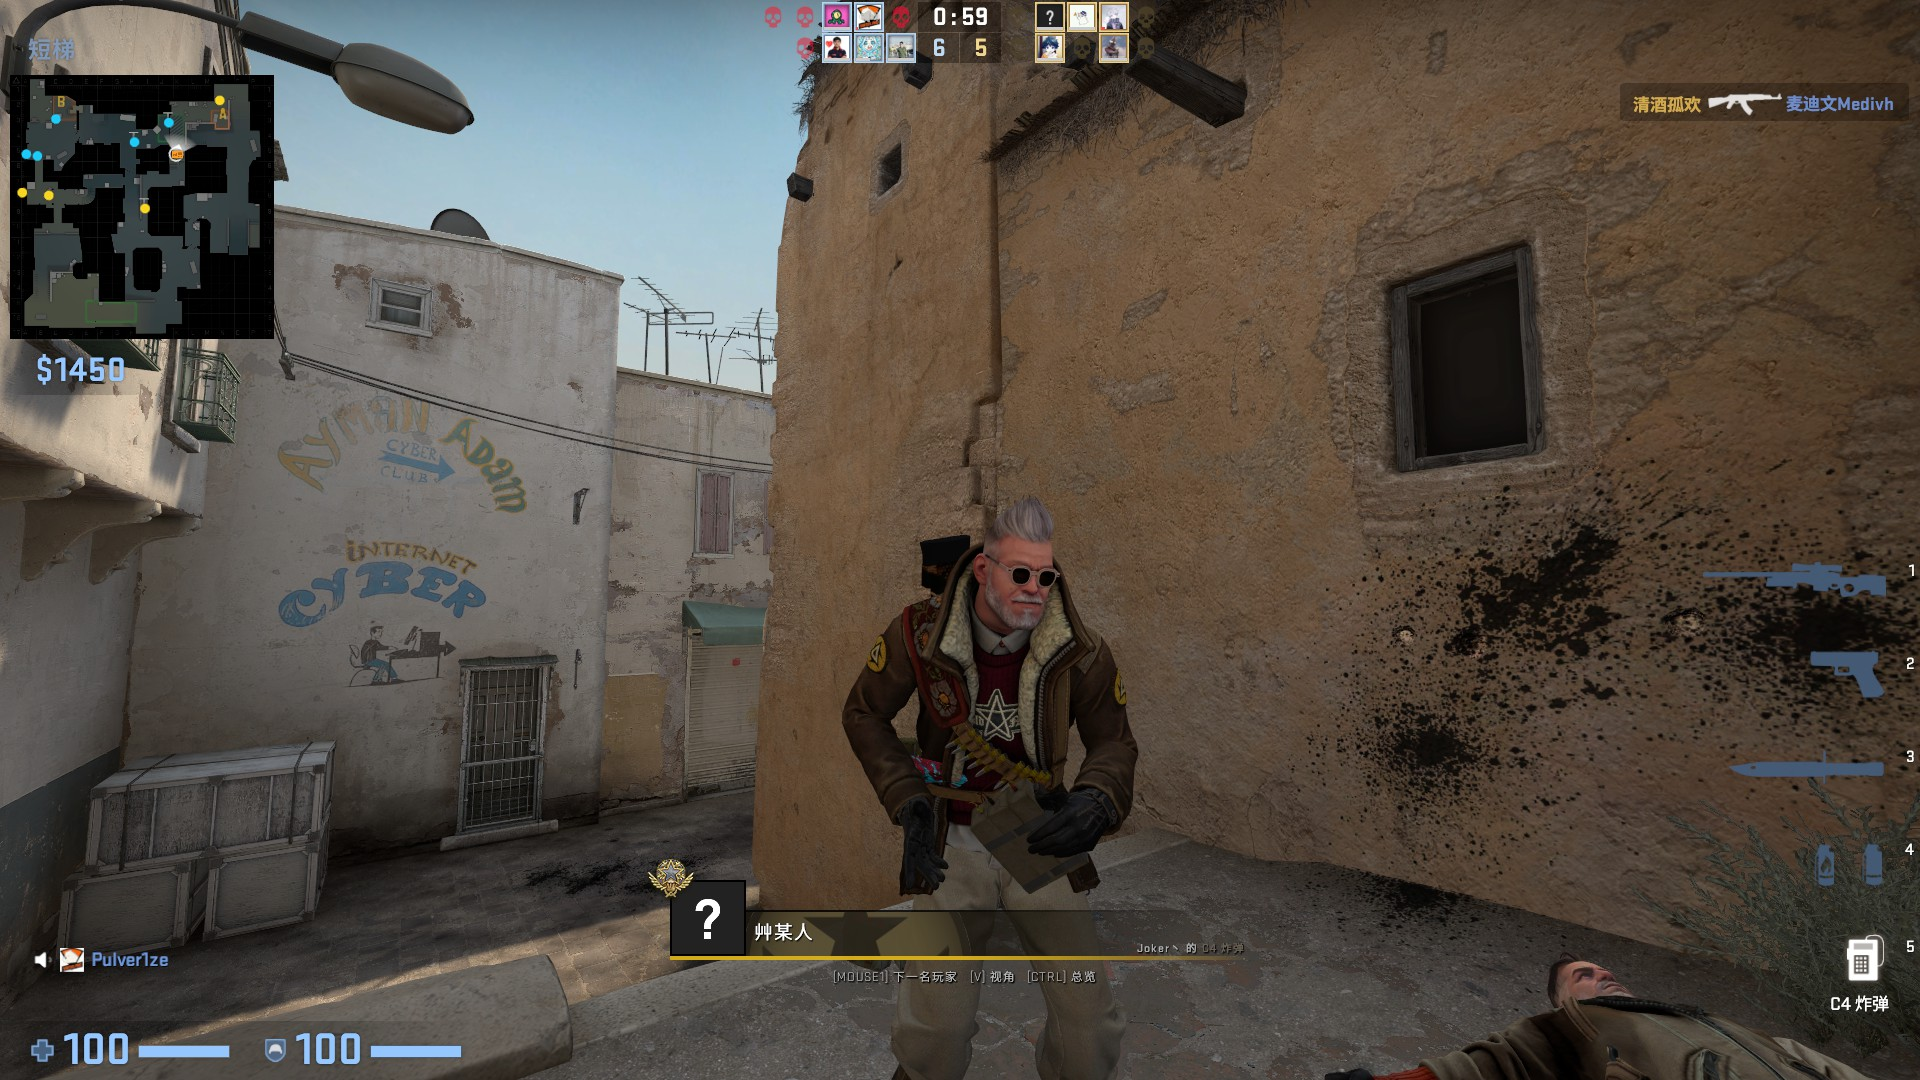head: (968, 496, 1062, 631)
